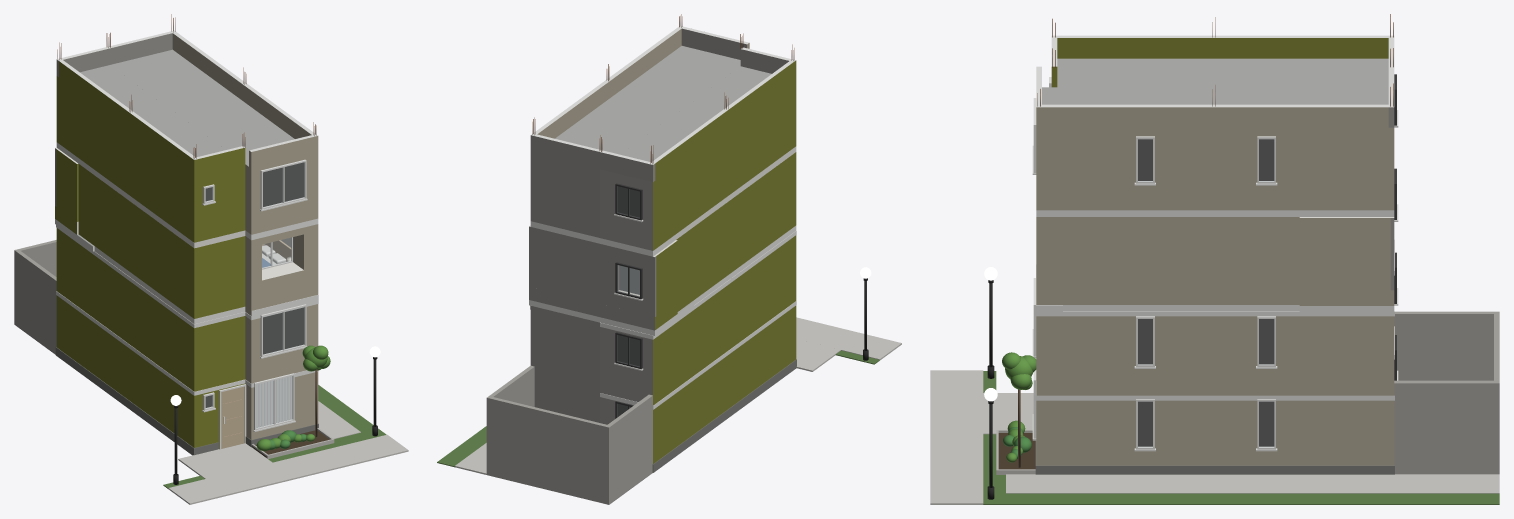
Rendered from CDVN15.glb.
The picture shows the model from 3 angles, left to right: view 1: azimuth 30°, elevation 25°; view 2: azimuth 150°, elevation 25°; view 3: azimuth 270°, elevation 25°; orthographic projection. The views are drawn at different scales.
Parts seen in each view (by area): view 1: Piso4_verde, Piso4_beige, Muro_00, Caja_escalera_1, Caja_escalera_0, Caja_escalera_2, Vereda_frente, Muro_01, Cerco_izq, Parapeto4_der, Parapeto4_izq, Volumen_2P (+27 smaller); view 2: Piso4_verde, Piso4_beige, Caja_escalera_1, Cerco_fondo, Muro_00, Caja_escalera_2, Muro3_posterior_b, Volumen_2P, Cerco_izq, Caja_escalera_0, Parapeto4_izq, Parapeto4_der (+23 smaller); view 3: Piso4_beige, Volumen_2P, Volumen_1P, Muro_08, Piso4_verde, Vereda_lateral, Cerco_der, Parapeto4_der, Parapeto4_izq, Vereda_frente, Cerco_izq, Muro3_lat_der (+26 smaller).
Part boxes in pixels (x1,y1,x2,y2): Piso4_verde: (56, 65, 245, 242); Piso4_beige: (110, 49, 318, 234); Muro_00: (78, 164, 197, 318); Caja_escalera_1: (56, 228, 121, 394); Caja_escalera_0: (169, 310, 245, 448); Caja_escalera_2: (121, 275, 169, 429); Vereda_frente: (168, 434, 408, 504); Muro_01: (197, 236, 245, 317); Cerco_izq: (16, 251, 56, 354); Parapeto4_der: (172, 32, 314, 138); Parapeto4_izq: (59, 60, 195, 174); Volumen_2P: (245, 304, 318, 381); Piso4_verde: (600, 66, 796, 250); Piso4_beige: (530, 46, 740, 237); Caja_escalera_1: (600, 290, 720, 463); Cerco_fondo: (486, 396, 611, 504); Muro_00: (676, 152, 796, 311); Caja_escalera_2: (720, 254, 769, 414); Muro3_posterior_b: (529, 225, 619, 308); Volumen_2P: (530, 306, 599, 390); Cerco_izq: (607, 394, 652, 501); Caja_escalera_0: (770, 235, 796, 378); Parapeto4_izq: (652, 61, 793, 180); Parapeto4_der: (533, 27, 681, 138); Piso4_beige: (1036, 87, 1394, 210); Volumen_2P: (1036, 316, 1394, 393); Volumen_1P: (1036, 393, 1394, 465); Muro_08: (1063, 217, 1299, 304); Piso4_verde: (1057, 58, 1388, 87); Vereda_lateral: (1006, 474, 1499, 493); Cerco_der: (1394, 380, 1493, 474); Parapeto4_der: (1042, 104, 1388, 127); Parapeto4_izq: (1057, 35, 1388, 58); Vereda_frente: (930, 370, 983, 504); Cerco_izq: (1394, 311, 1493, 380); Muro3_lat_der: (1299, 217, 1390, 290).
Size of what is drawn, in the model's own units: 8.3 by 11.38 by 15.03.
